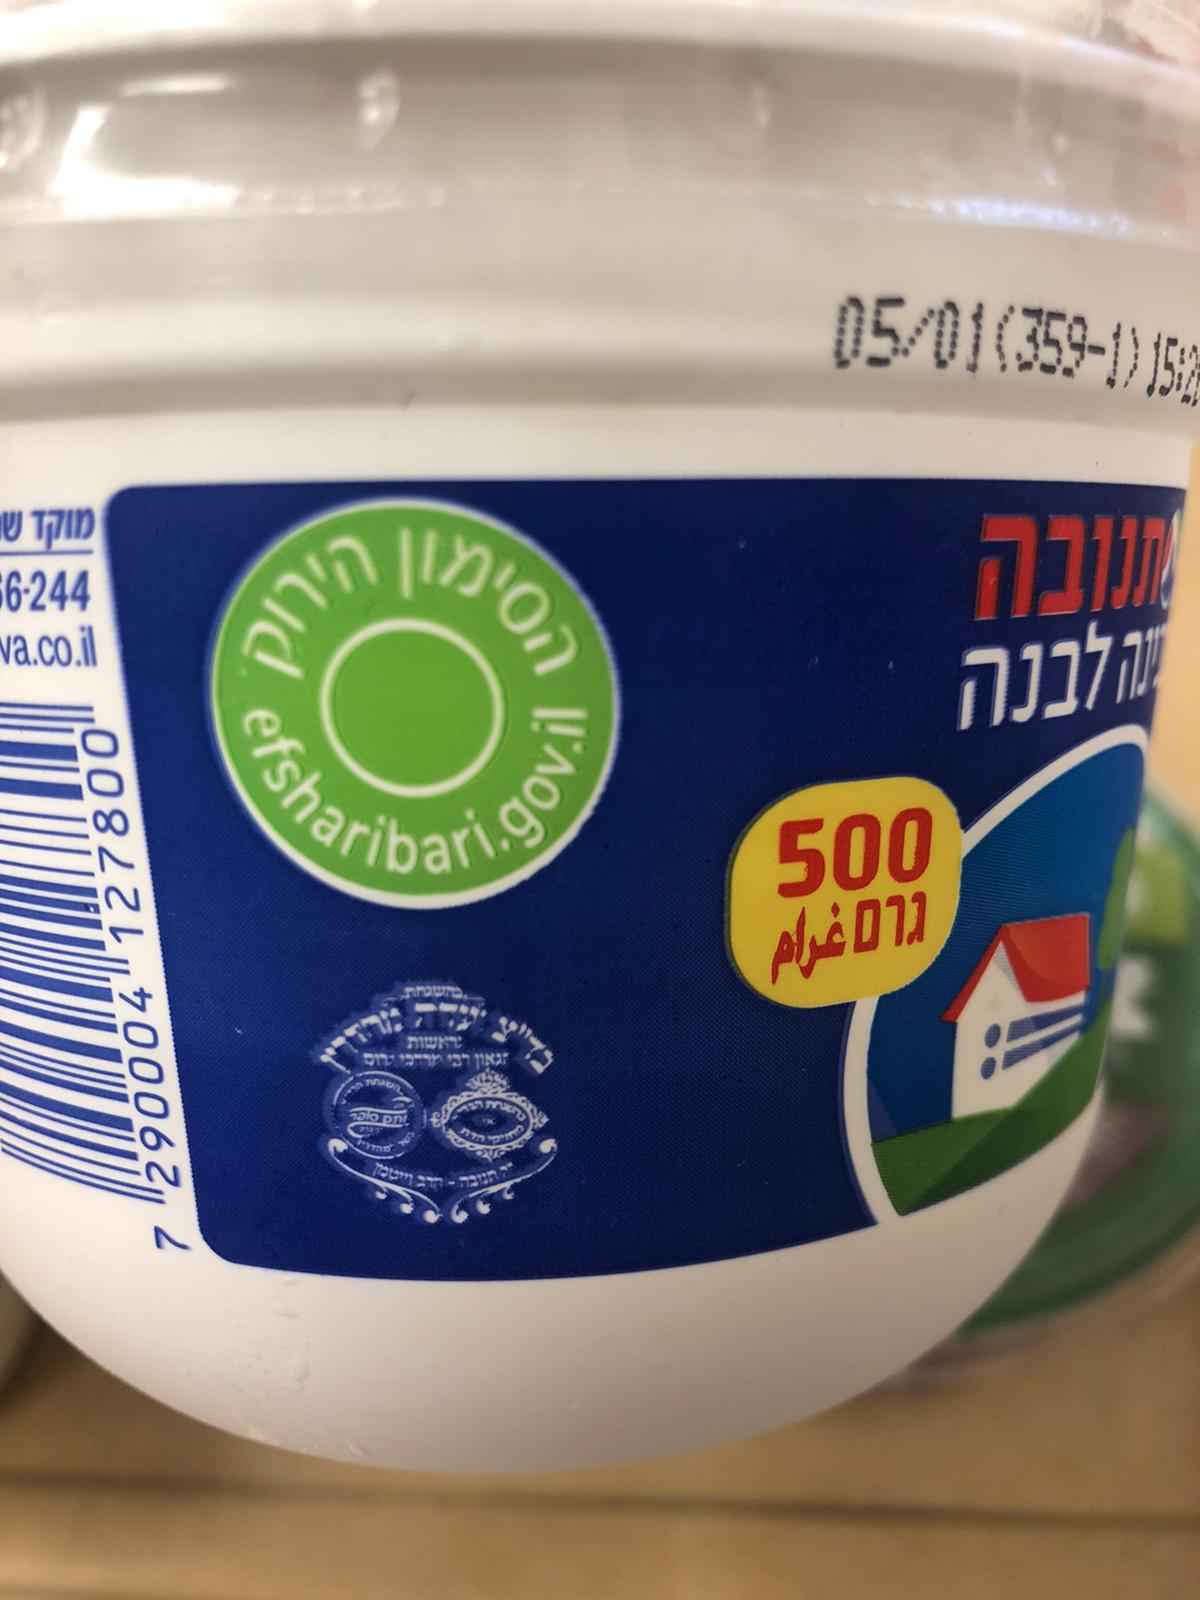green: (199, 500, 626, 911)
